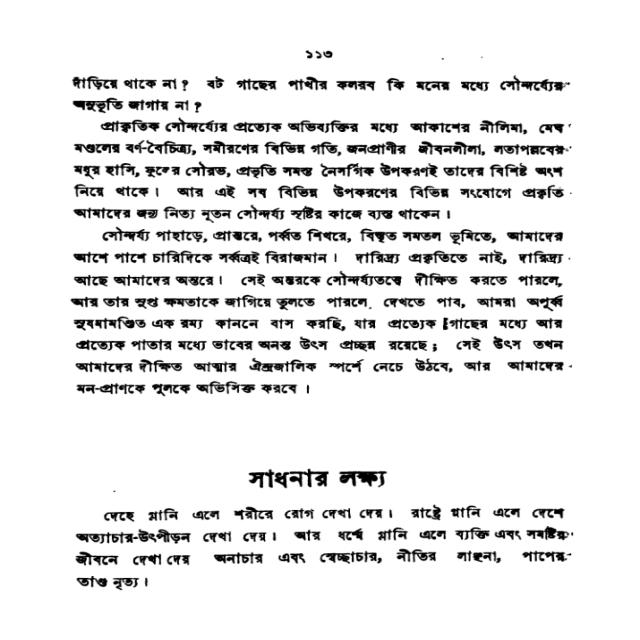page number: (293, 45, 351, 63)
paragraph: (70, 227, 580, 400), (67, 116, 580, 223), (68, 498, 594, 594), (59, 74, 580, 117)
title: (226, 465, 401, 494)
